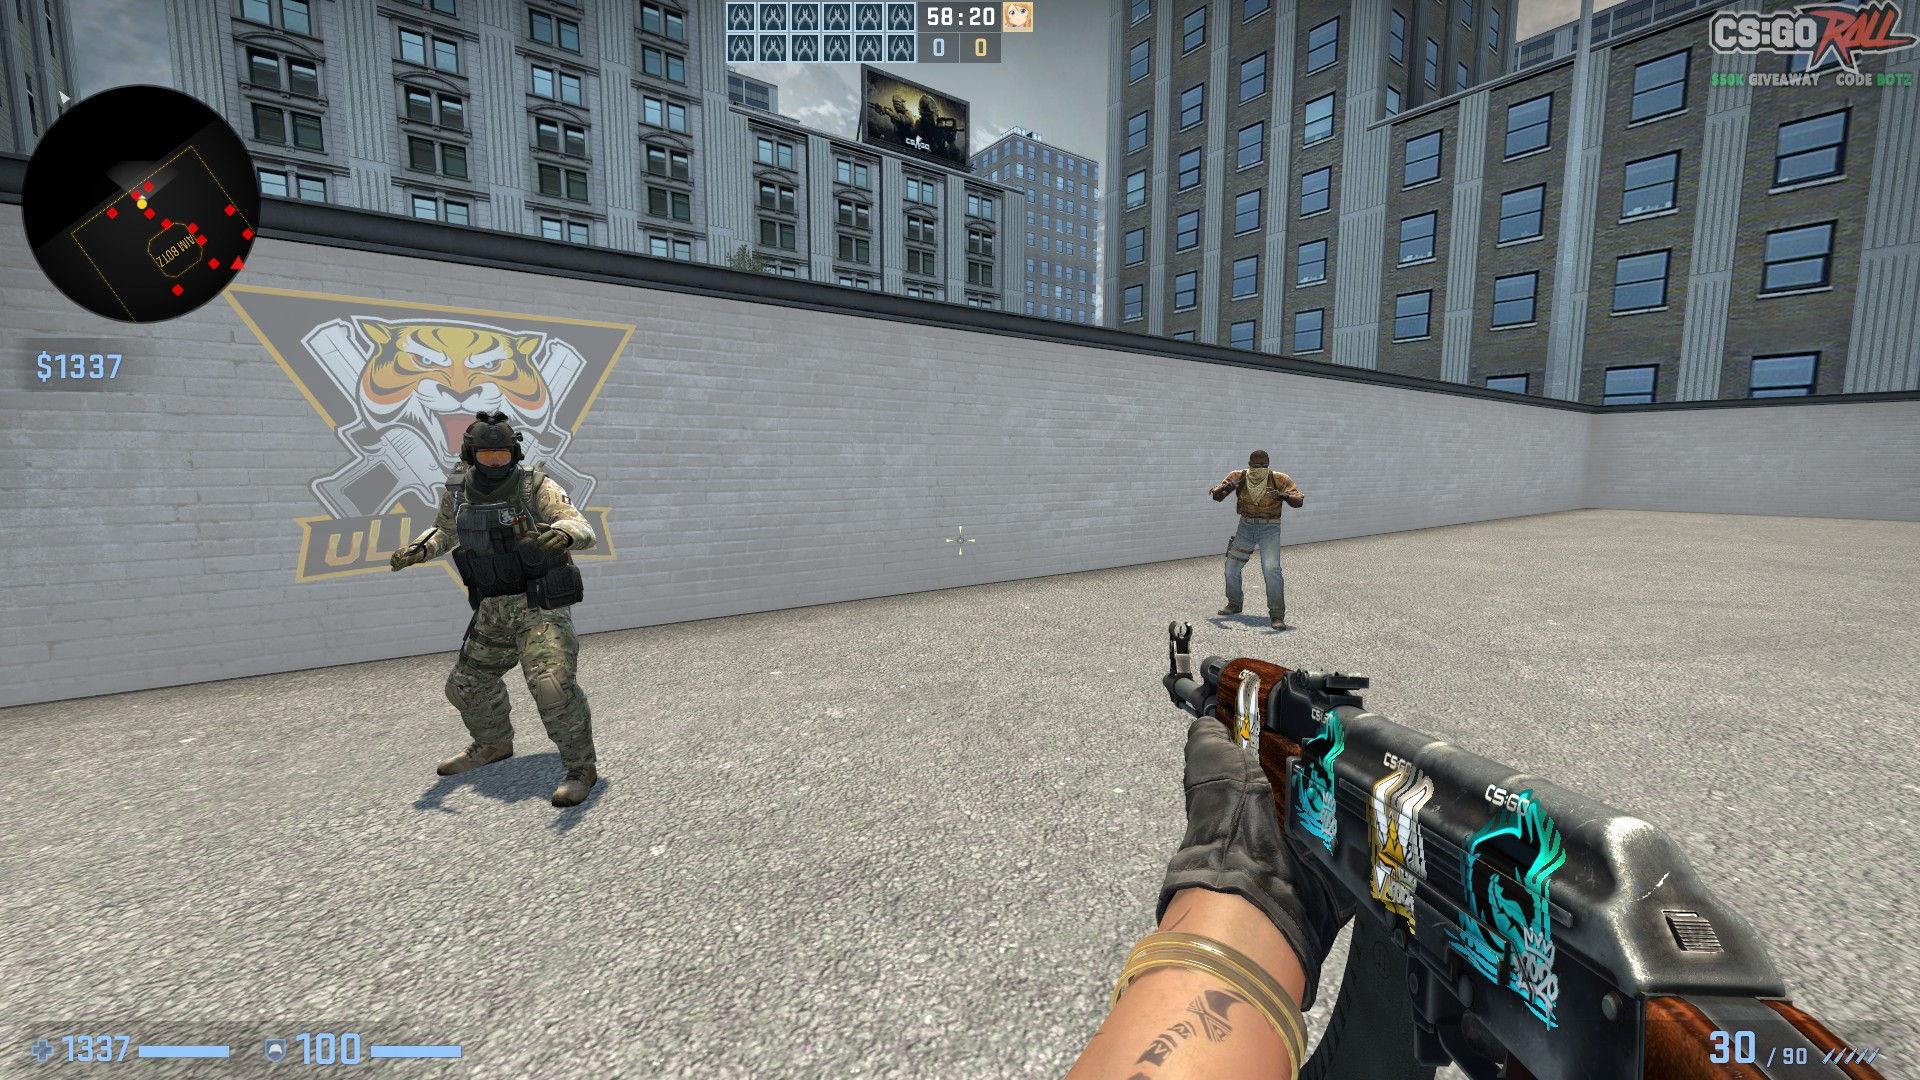head: (464, 412, 520, 478), (1251, 448, 1268, 484)
